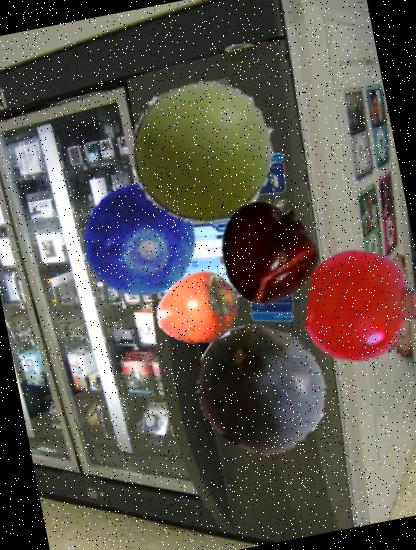Cherry: (206, 192, 326, 312)
Grape: (118, 65, 288, 235)
Huckleberry: (71, 174, 206, 308)
Kaki: (148, 259, 249, 360)
Plum: (182, 310, 339, 466)
Redcurrant: (298, 239, 416, 374)
